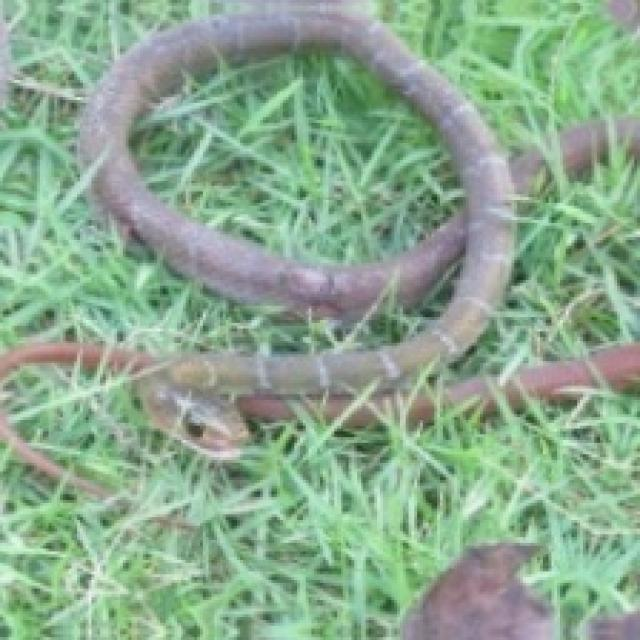reddish rat snake: (0, 12, 640, 459)
